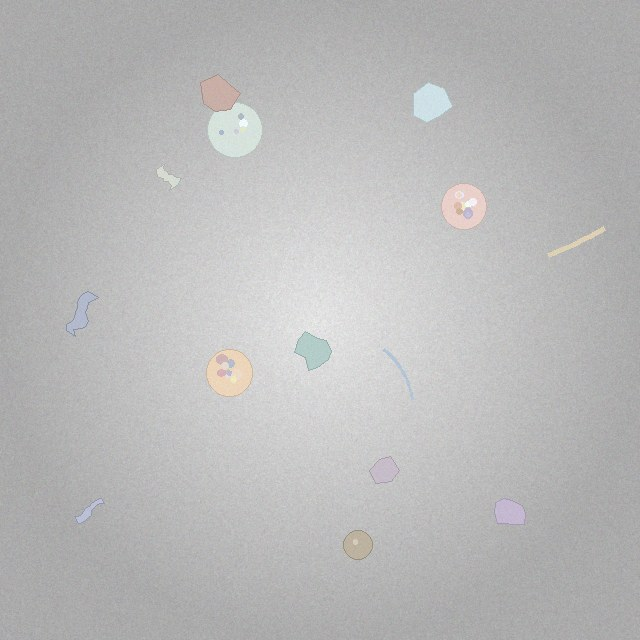fiber: (543, 223, 610, 261), (380, 346, 416, 403)
film: (67, 291, 99, 337), (74, 498, 105, 523), (157, 163, 182, 190)
foam: (207, 102, 262, 158), (206, 350, 253, 396), (441, 184, 486, 229)
fragment: (414, 82, 452, 122), (201, 75, 240, 112), (295, 332, 331, 371), (369, 456, 400, 483), (495, 499, 525, 525)
pellet: (344, 530, 372, 559)
